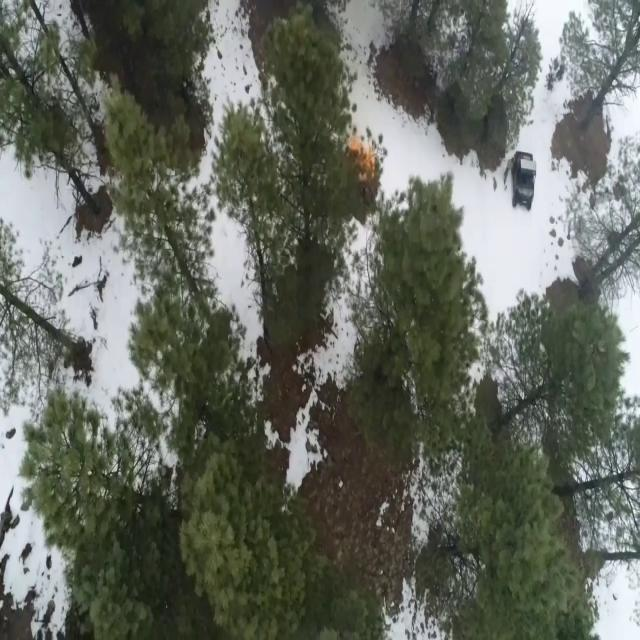fire: (349, 131, 378, 178)
